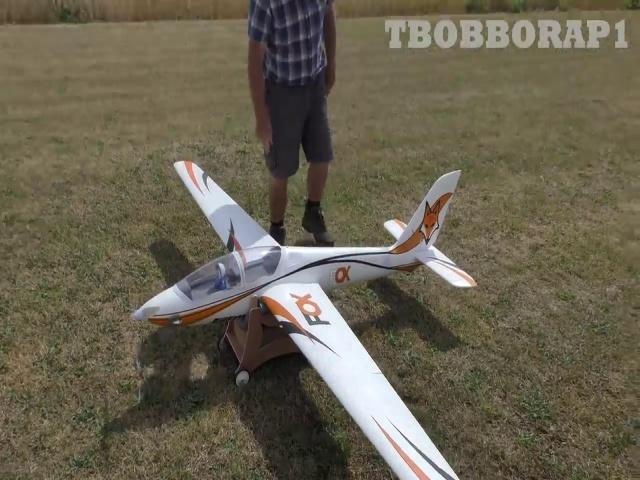Airplane: (130, 161, 477, 480)
